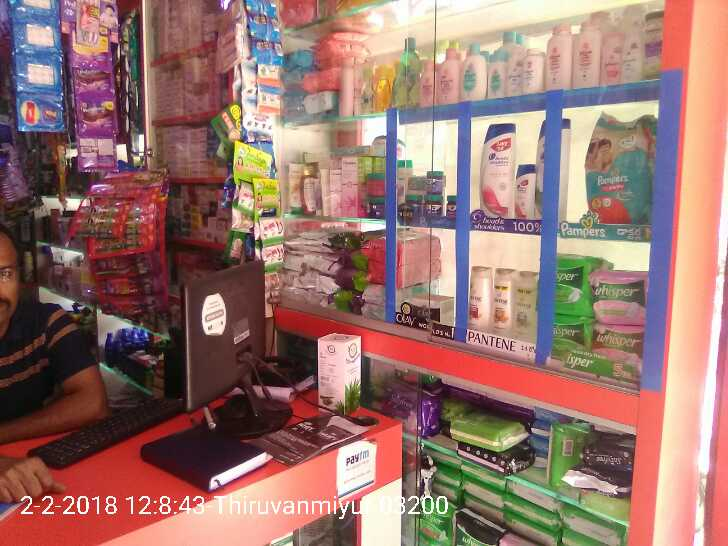vicks: (404, 168, 460, 219)
